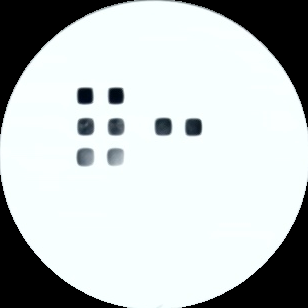检查点: (76, 117, 96, 136), (154, 117, 173, 137), (185, 117, 203, 137), (107, 87, 125, 106), (77, 149, 95, 167), (107, 148, 125, 166), (77, 87, 94, 105), (108, 119, 125, 135)
